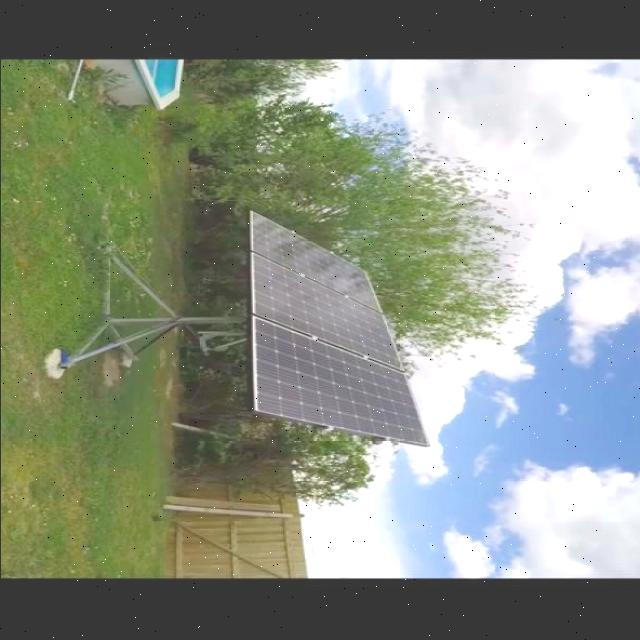Normal Solar Panel: (251, 318, 426, 446), (248, 254, 398, 368), (248, 212, 378, 312)
